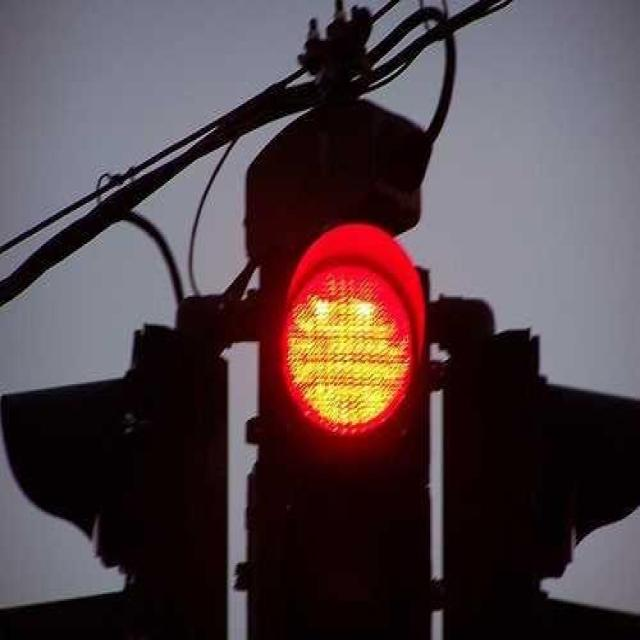Traffic Light -Red-: (263, 211, 438, 640)
